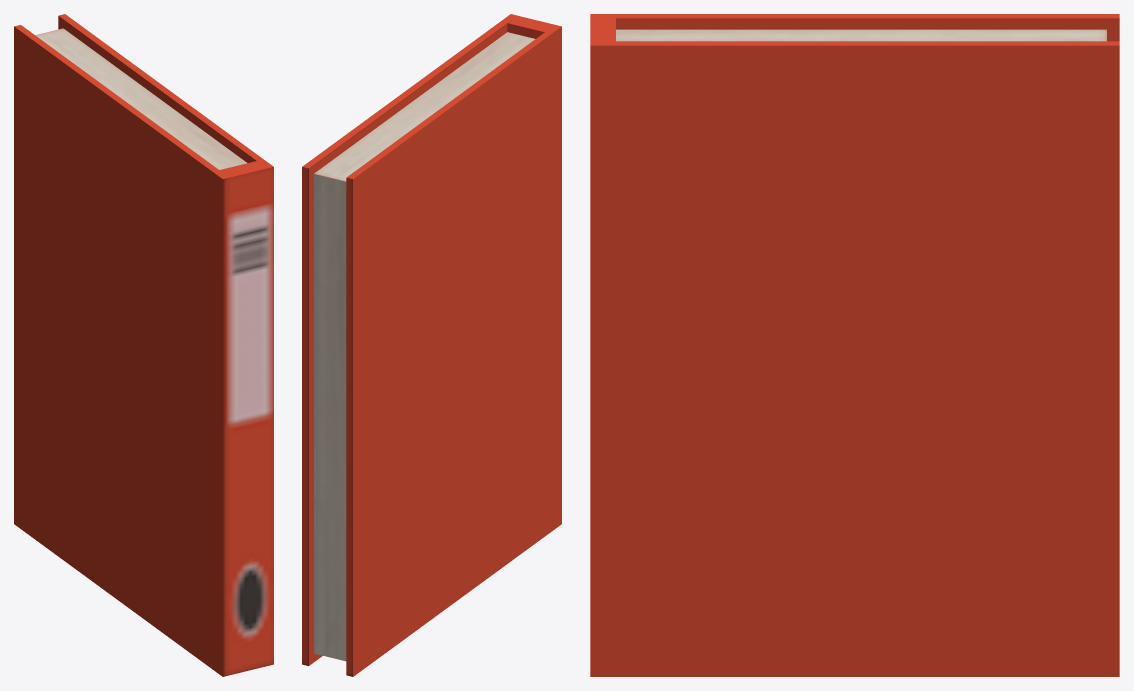
File: record file2.FBX
The picture shows the model from 3 angles, left to right: view 1: azimuth 30°, elevation 25°; view 2: azimuth 150°, elevation 25°; view 3: azimuth 270°, elevation 25°; orthographic projection. The views are drawn at different scales.
Visible parts, largest first — view 1: record file2; view 2: record file2; view 3: record file2.
Boxes of the visible parts, bbox=[...] form: record file2: bbox=[14, 14, 273, 676]; record file2: bbox=[302, 14, 561, 676]; record file2: bbox=[590, 14, 1119, 676].
Size of the model in its own units: 1.5 by 10.63 by 13.99.
